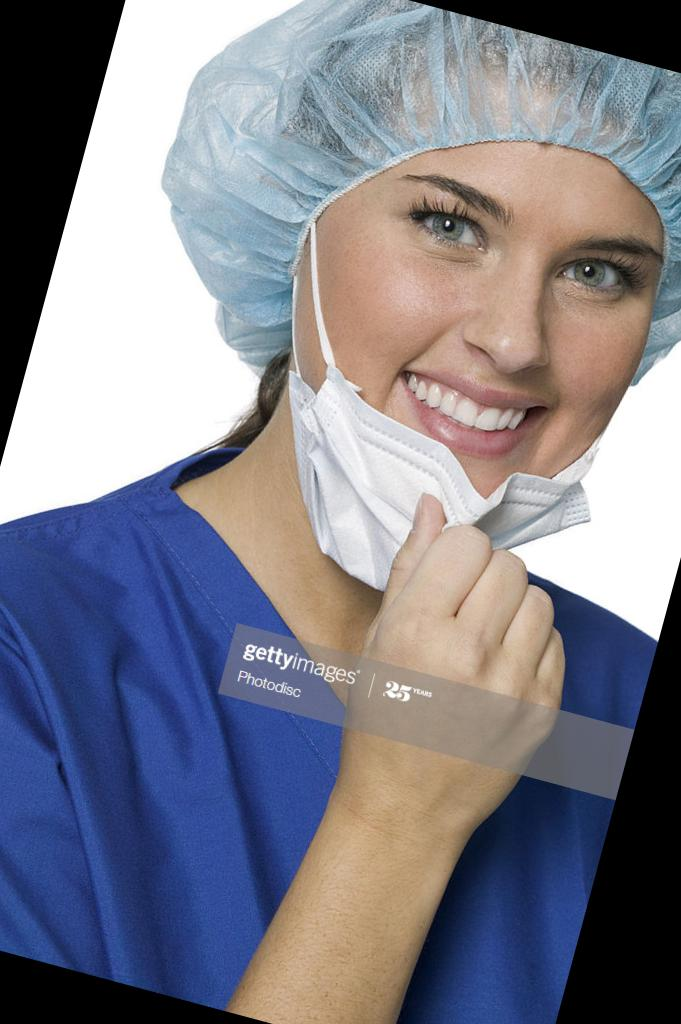mask_weared_incorrect: (308, 161, 655, 592)
